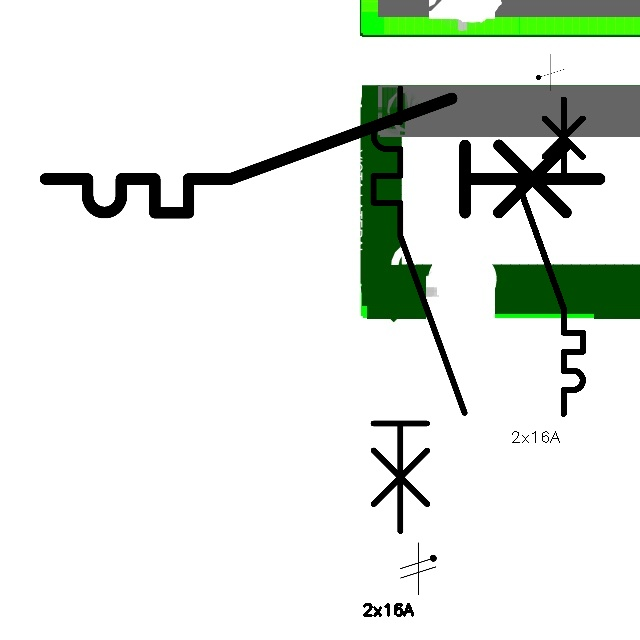interruptor_termomagnetico: (31, 84, 614, 227), (362, 77, 476, 542), (510, 91, 591, 421)
